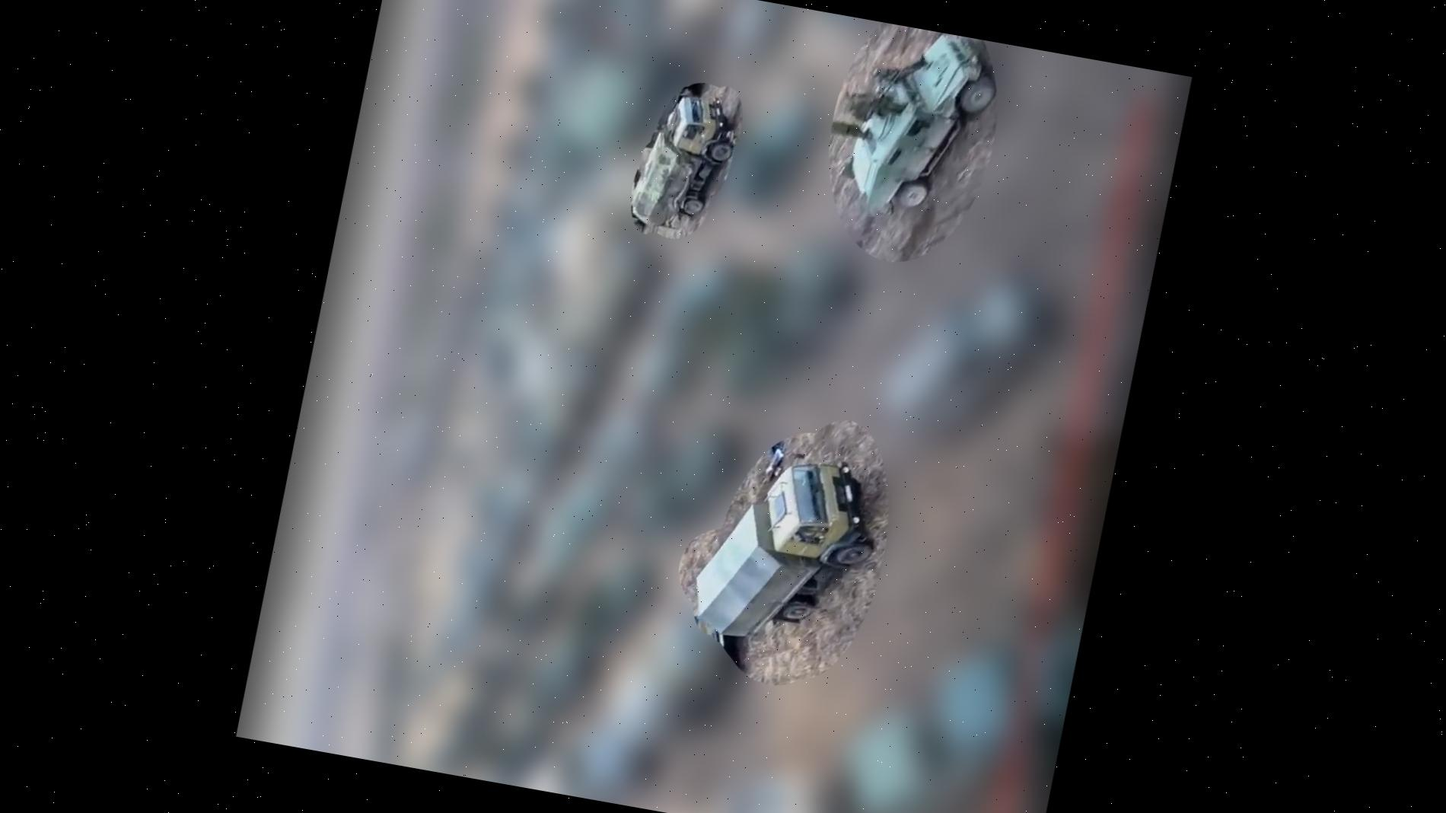armored_car: (836, 20, 1005, 226)
truck: (691, 437, 888, 657), (624, 70, 749, 245)
